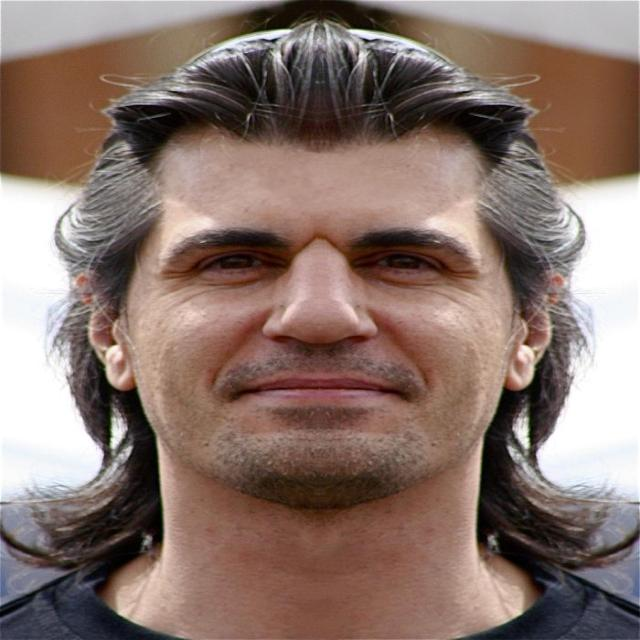no-glass: (184, 237, 488, 280)
